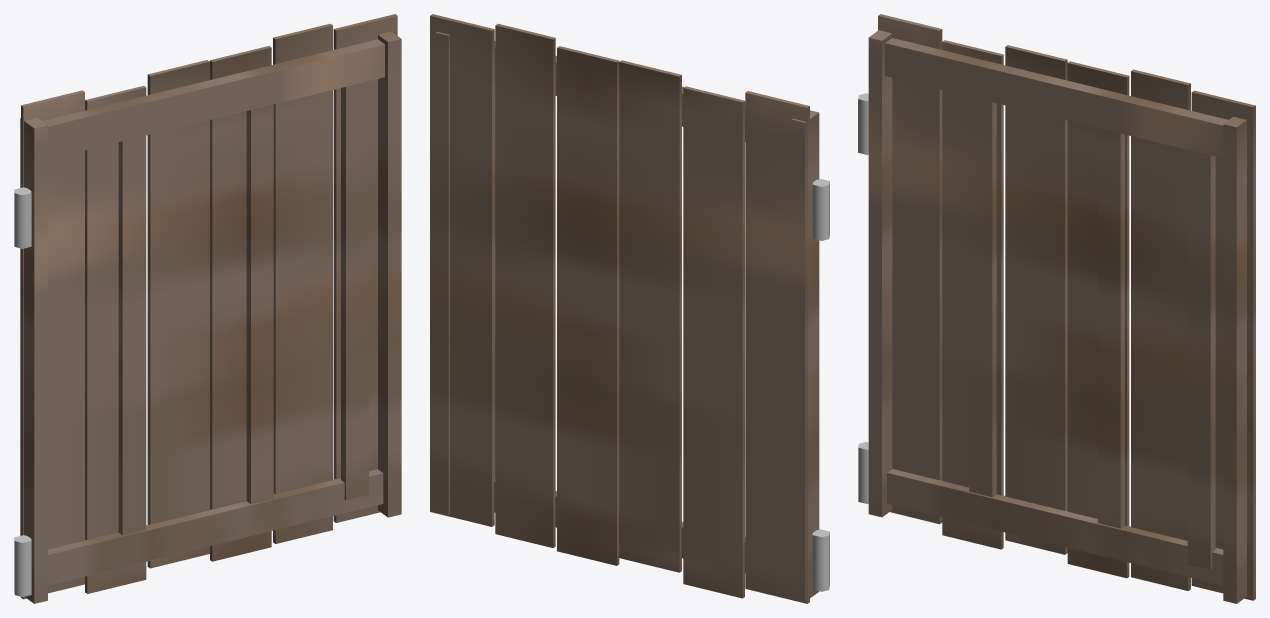
Rendered from entdoor5l.fbx.
The picture shows the model from 3 angles, left to right: view 1: azimuth 30°, elevation 25°; view 2: azimuth 150°, elevation 25°; view 3: azimuth 330°, elevation 25°; orthographic projection.
Visible parts, largest first — view 1: entdoor5l; view 2: entdoor5l; view 3: entdoor5l.
Boxes of the visible parts, <box> form: entdoor5l: <box>14,14,401,603</box>; entdoor5l: <box>430,14,829,603</box>; entdoor5l: <box>858,14,1255,603</box>.
Size of the model in its own units: 0.5767 by 0.7219 by 0.0361.
